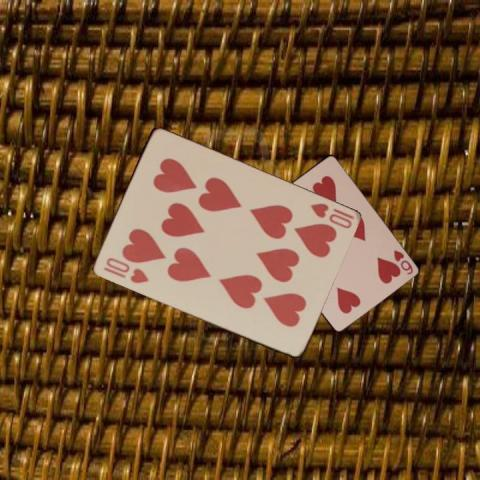10h: (100, 254, 150, 285), (307, 200, 355, 231)
6h: (390, 247, 414, 276)
